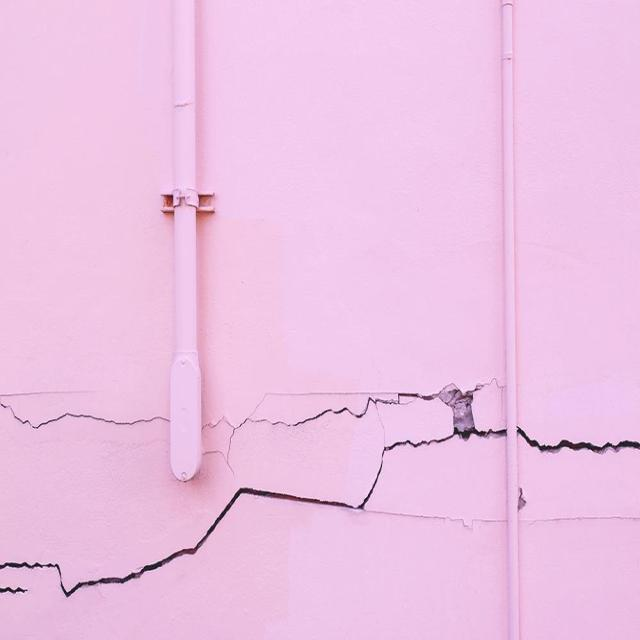crack: (1, 380, 507, 599)
